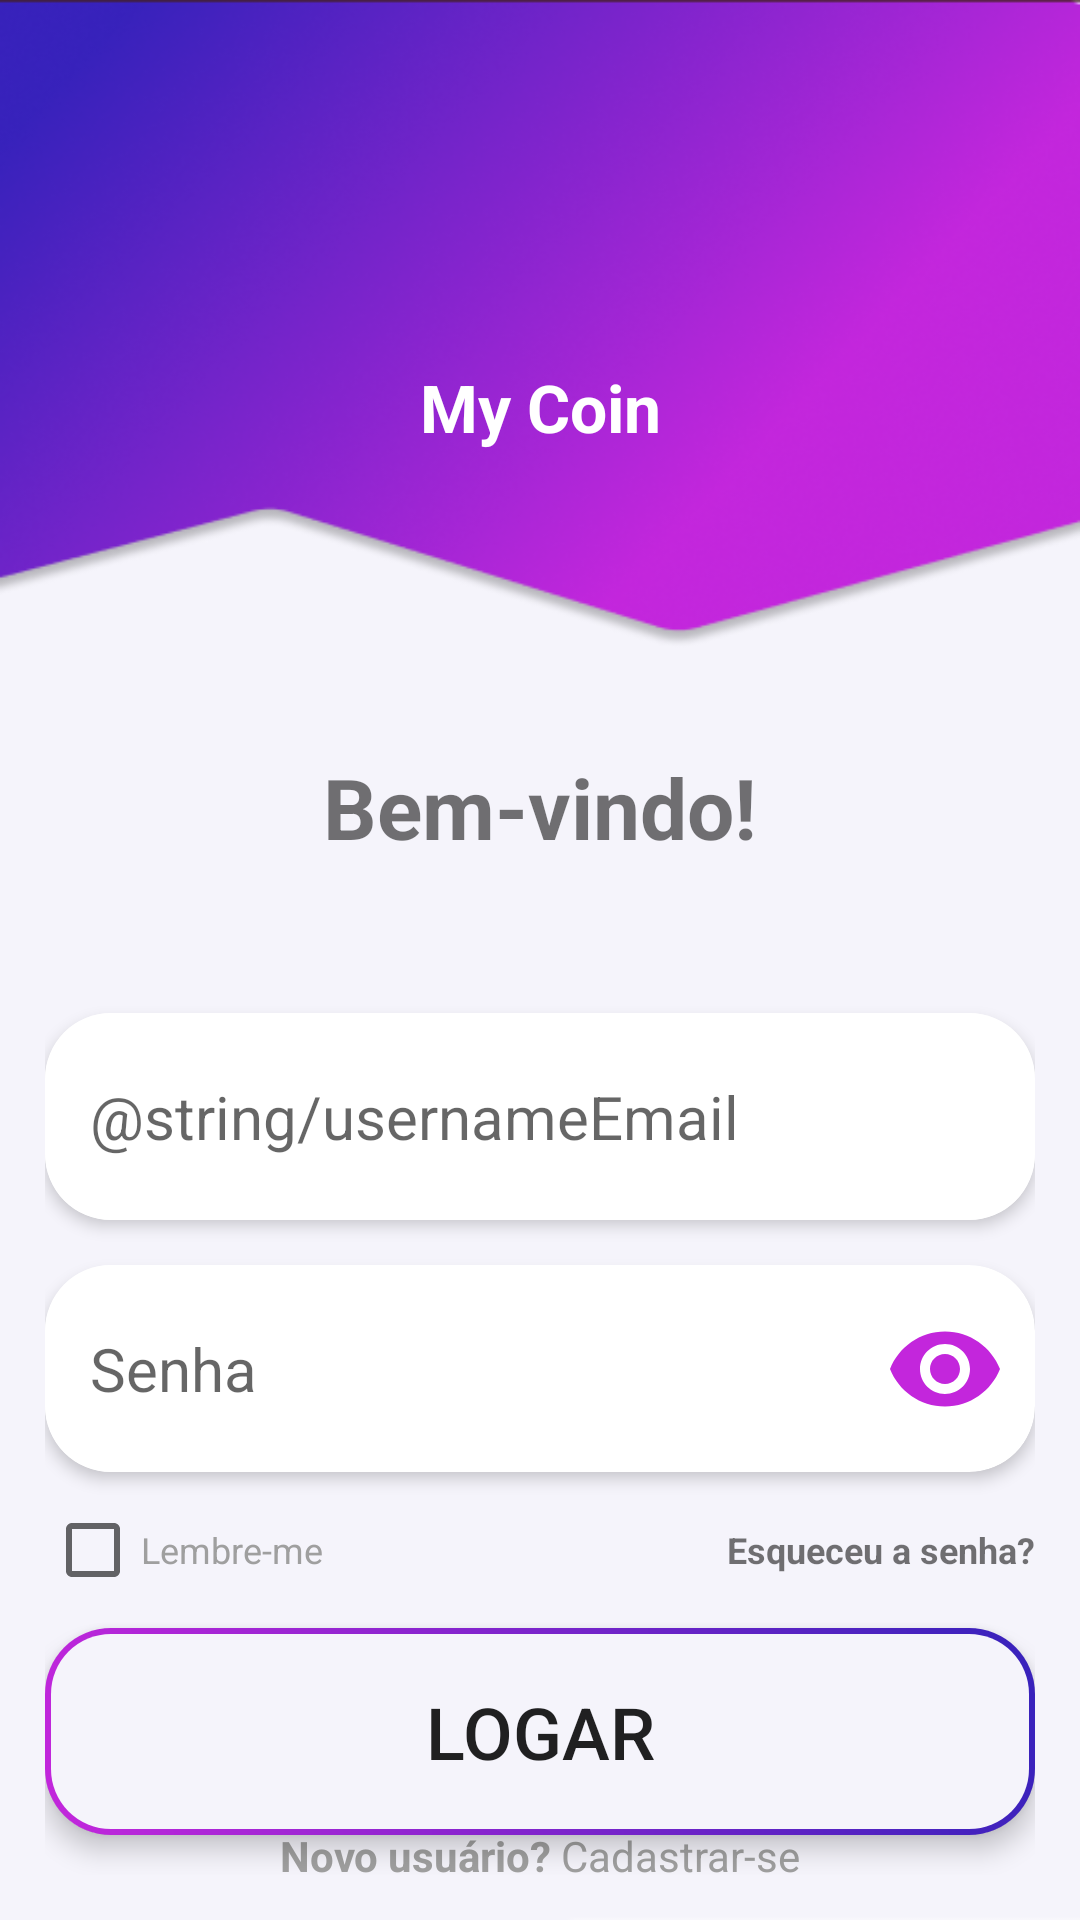

Locate icon controls on the screen. Image size 1080px×1920px, boxes as (x1, y1, x2, y2).
eye: (890, 1331, 1000, 1407)
